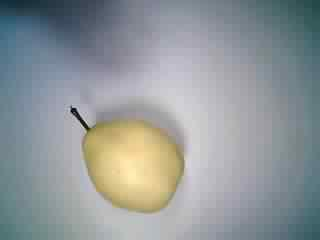pear: (61, 101, 195, 217)
